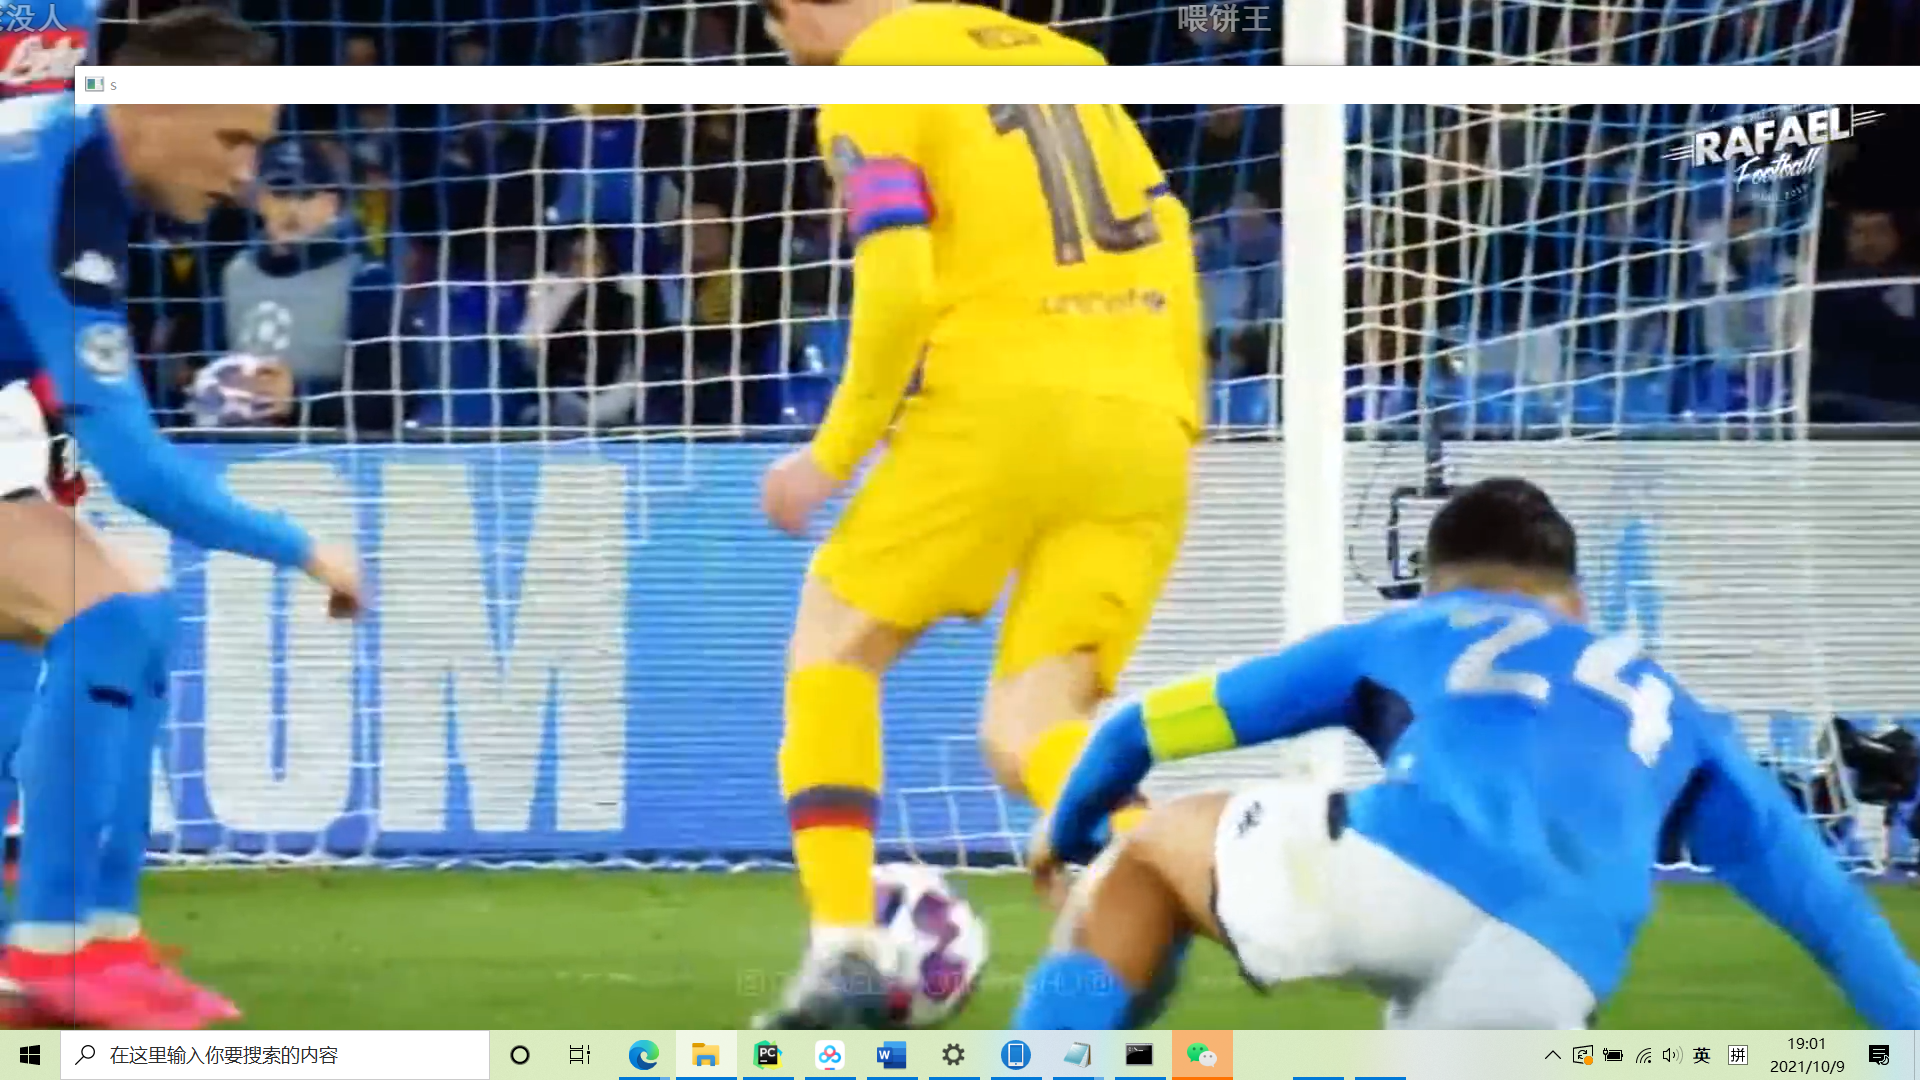ft: (828, 848, 994, 1014)
